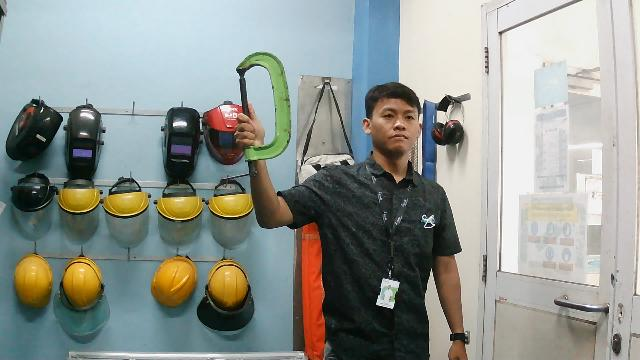tekiro_c_clamp: (229, 45, 297, 177)
